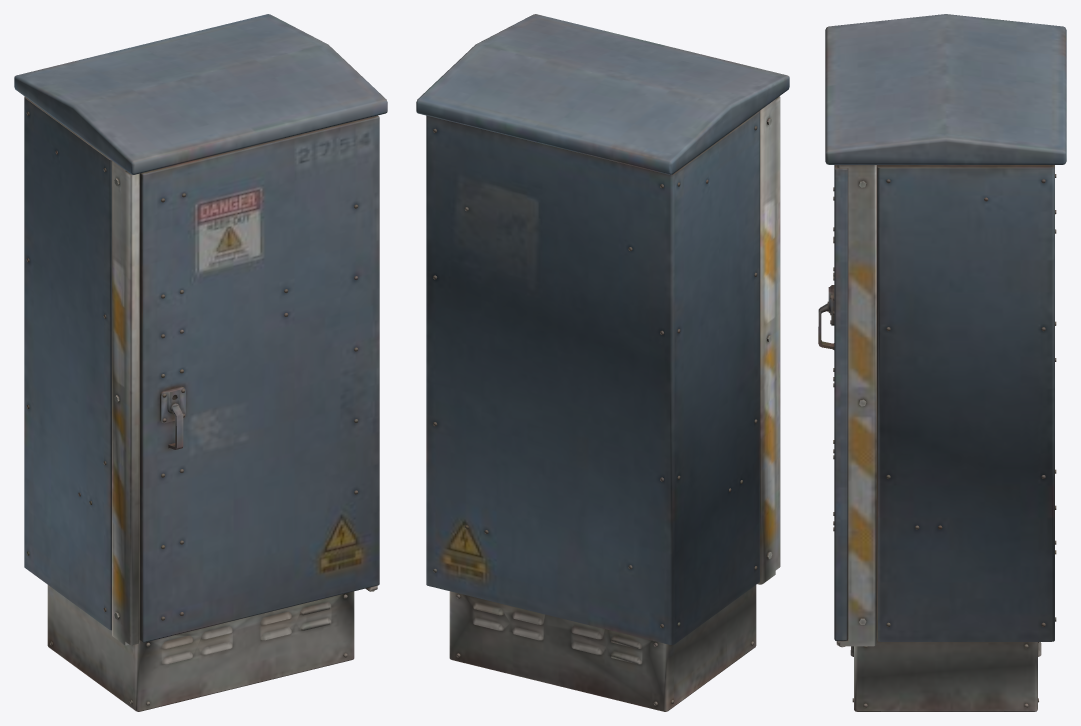
File: utility_box.glb
3 renders of one model, left to right at view 1: azimuth 30°, elevation 25°; view 2: azimuth 150°, elevation 25°; view 3: azimuth 270°, elevation 25°, orthographic.
Parts seen in each view (by area): view 1: utility_box_01_box_low; view 2: utility_box_01_box_low; view 3: utility_box_01_box_low.
Part boxes in pixels (left/top/right/bottom): utility_box_01_box_low: left=14, top=14, right=387, bottom=711; utility_box_01_box_low: left=416, top=14, right=789, bottom=711; utility_box_01_box_low: left=818, top=14, right=1066, bottom=711.
Bounding box in the file's own units: 0.52 × 1.12 × 0.432.
1 material, 1 textured.
